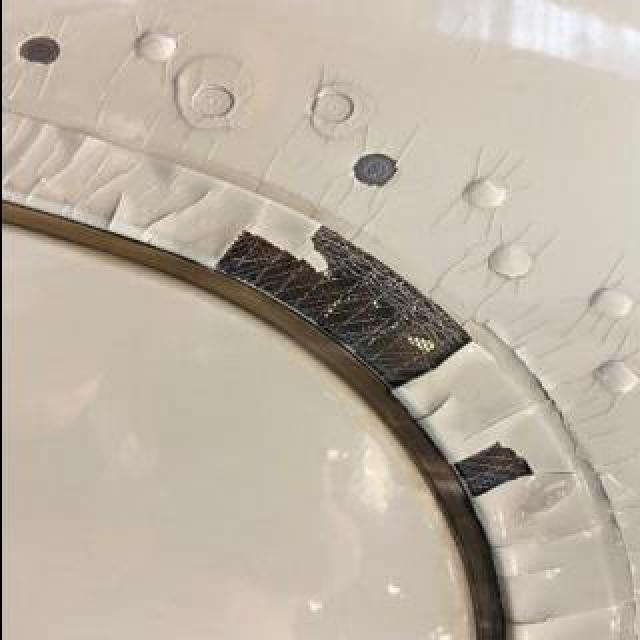crack: (453, 316, 640, 608), (127, 182, 219, 244), (510, 470, 582, 530), (486, 521, 610, 555), (503, 600, 629, 632), (407, 391, 459, 427), (492, 561, 568, 585), (101, 189, 127, 237)
